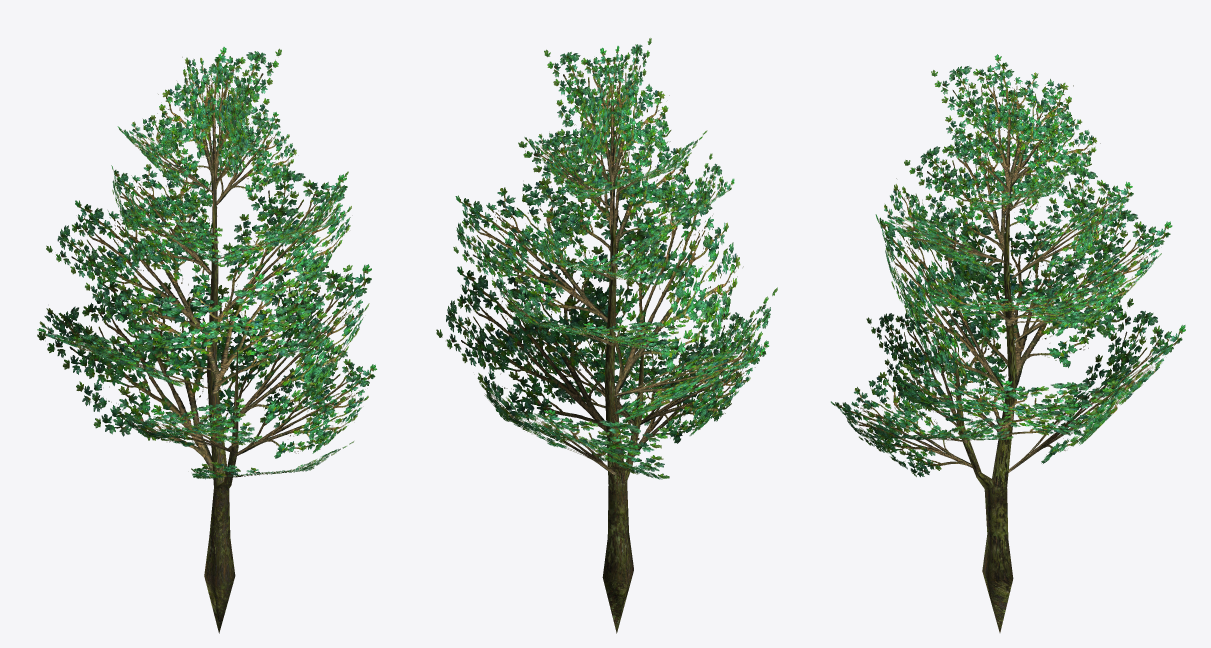
File: decd_endr_maple_sm_l1.fbx
3 renders of one model, left to right at view 1: azimuth 30°, elevation 25°; view 2: azimuth 150°, elevation 25°; view 3: azimuth 270°, elevation 25°, orthographic.
Visible parts, largest first — view 1: mesh_node; view 2: mesh_node; view 3: mesh_node.
Boxes of the visible parts, <box> form: mesh_node: <box>37,47,376,633</box>; mesh_node: <box>436,38,777,633</box>; mesh_node: <box>831,54,1185,632</box>.
Size of the model in its own units: 6.26 by 10.55 by 6.1.
